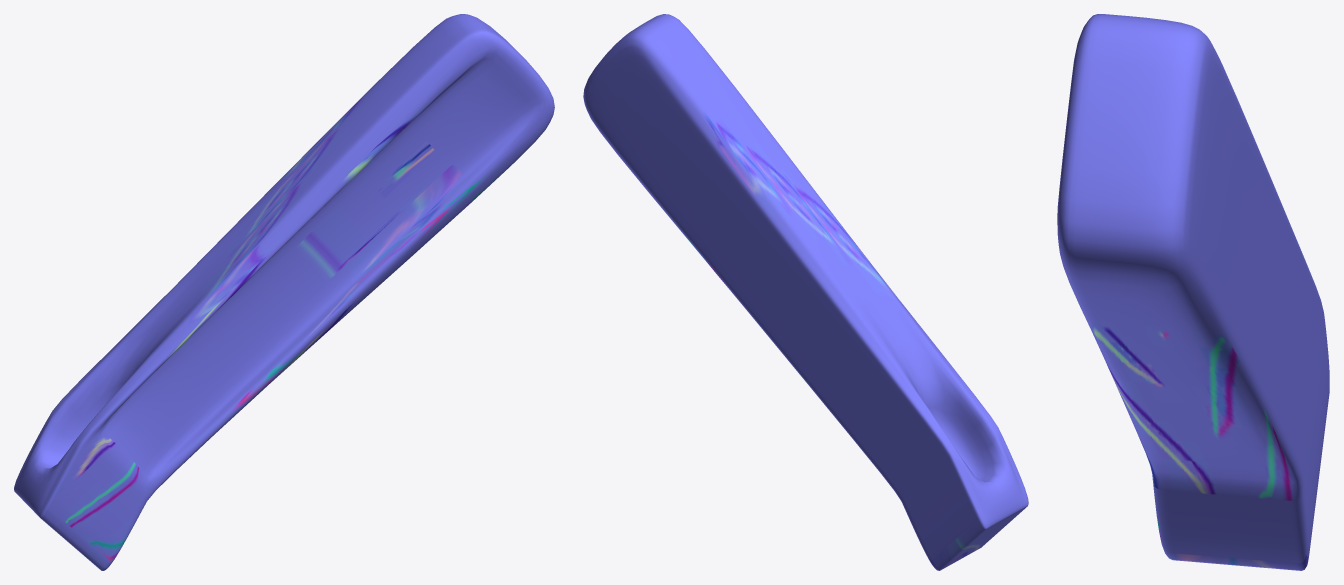
The model's file is perrorobot_brazoizq.fbx.
3 renders of one model, left to right at view 1: azimuth 30°, elevation 25°; view 2: azimuth 150°, elevation 25°; view 3: azimuth 270°, elevation 25°, orthographic. The views are drawn at different scales.
Visible parts, largest first — view 1: pasted__pCube5_legmetal_0; view 2: pasted__pCube5_legmetal_0; view 3: pasted__pCube5_legmetal_0.
Boxes of the visible parts, bbox=[...] form: pasted__pCube5_legmetal_0: bbox=[14, 14, 554, 570]; pasted__pCube5_legmetal_0: bbox=[583, 14, 1028, 570]; pasted__pCube5_legmetal_0: bbox=[1057, 14, 1329, 570].
Size of the model in its own units: 42.84 by 39.72 by 11.42.
